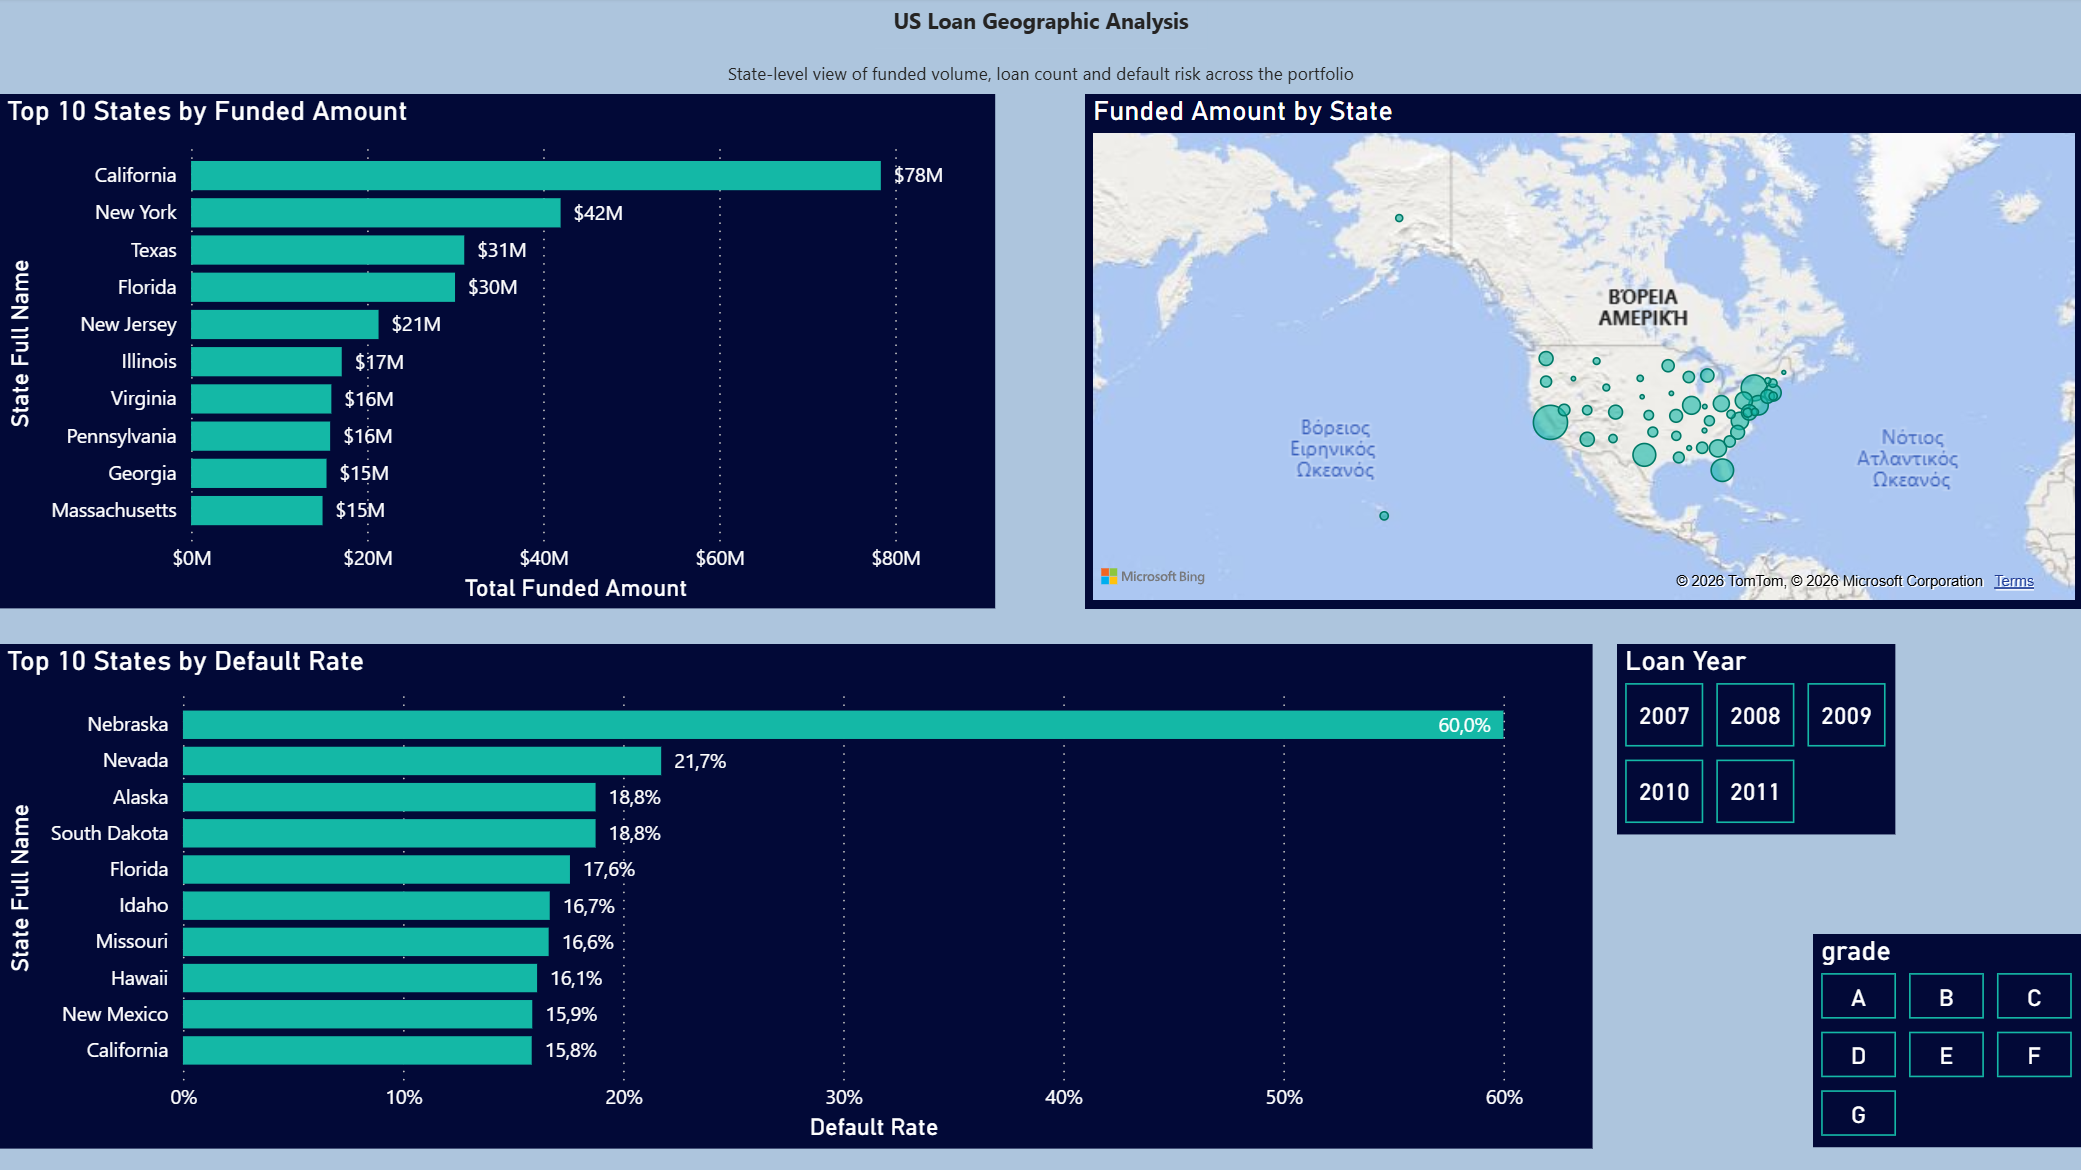

This screenshot's page, from the dashboard's own definition file:
{"tool":"powerbi","page":{"name":"Geographic Analysis","canvas":[1280,720],"ordinal":1},"visuals":[{"type":"textbox","box":[538.2,0,204,31.3],"z":0},{"type":"textbox","box":[436.2,31.3,407.9,27.6],"z":1000},{"type":"clusteredBarChart","title":"Top 10 States by Funded Amount","fields":{"Category":["Loans.State Full Name"],"Y":["Loans.Total Funded Amount"]},"box":[0,59,611.9,316.4],"z":2000},{"type":"map","title":"Funded Amount by State","fields":{"Category":["Loans.State Full Name"],"Size":["Loans.Total Funded Amount"]},"box":[667.2,59,613.1,316.4],"z":3000},{"type":"clusteredBarChart","title":"Top 10 States by Default Rate","fields":{"Category":["Loans.State Full Name"],"Y":["Loans.Default Rate"]},"box":[0,396.9,979.2,309.6],"z":5000},{"type":"advancedSlicerVisual","fields":{"Values":["Loans.Loan Year"]},"box":[994,396.9,171.4,116.7],"z":6000},{"type":"advancedSlicerVisual","fields":{"Values":["Loans.grade"]},"box":[1114.4,575,165.9,131.5],"z":7000}]}

Visuals, with their boxes in screenshot pixels (x1, y1, x2, y2), scaled from the page's 1280x720 canvas onto the 2081x1170 screenshot:
textbox: bbox=[875, 0, 1207, 51]
textbox: bbox=[709, 51, 1372, 96]
"Top 10 States by Funded Amount" clusteredBarChart: bbox=[0, 96, 995, 610]
"Funded Amount by State" map: bbox=[1085, 96, 2080, 610]
"Top 10 States by Default Rate" clusteredBarChart: bbox=[0, 645, 1592, 1148]
advancedSlicerVisual - Loans.Loan Year: bbox=[1616, 645, 1895, 835]
advancedSlicerVisual - Loans.grade: bbox=[1812, 934, 2080, 1148]
